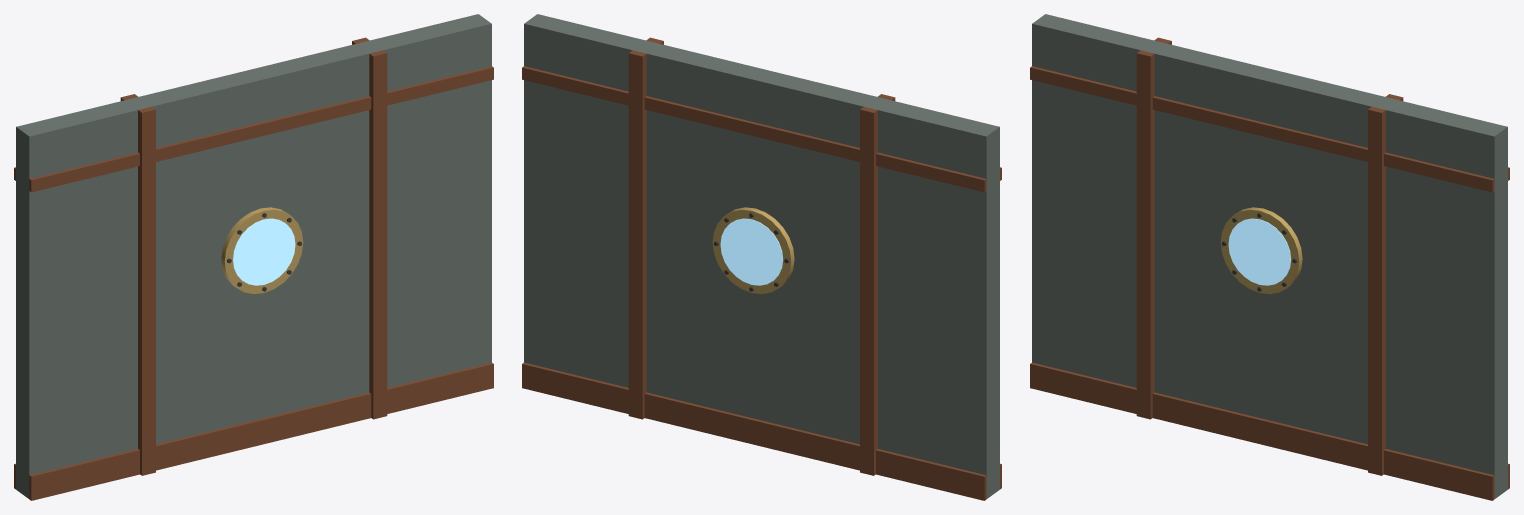
File: SM_Wall_Porthole.fbx
3 views of the same model, side by side, from view 1: azimuth 30°, elevation 25°; view 2: azimuth 150°, elevation 25°; view 3: azimuth 330°, elevation 25° (orthographic).
Visible parts, largest first — view 1: SM_Wall_Porthole; view 2: SM_Wall_Porthole; view 3: SM_Wall_Porthole.
Boxes of the visible parts, x1,y1,x2,y2 form: SM_Wall_Porthole: (14,14,493,500); SM_Wall_Porthole: (522,14,1001,500); SM_Wall_Porthole: (1030,14,1509,500).
Size of what is drawn, in the model's own units: 4 by 3 by 0.33.
